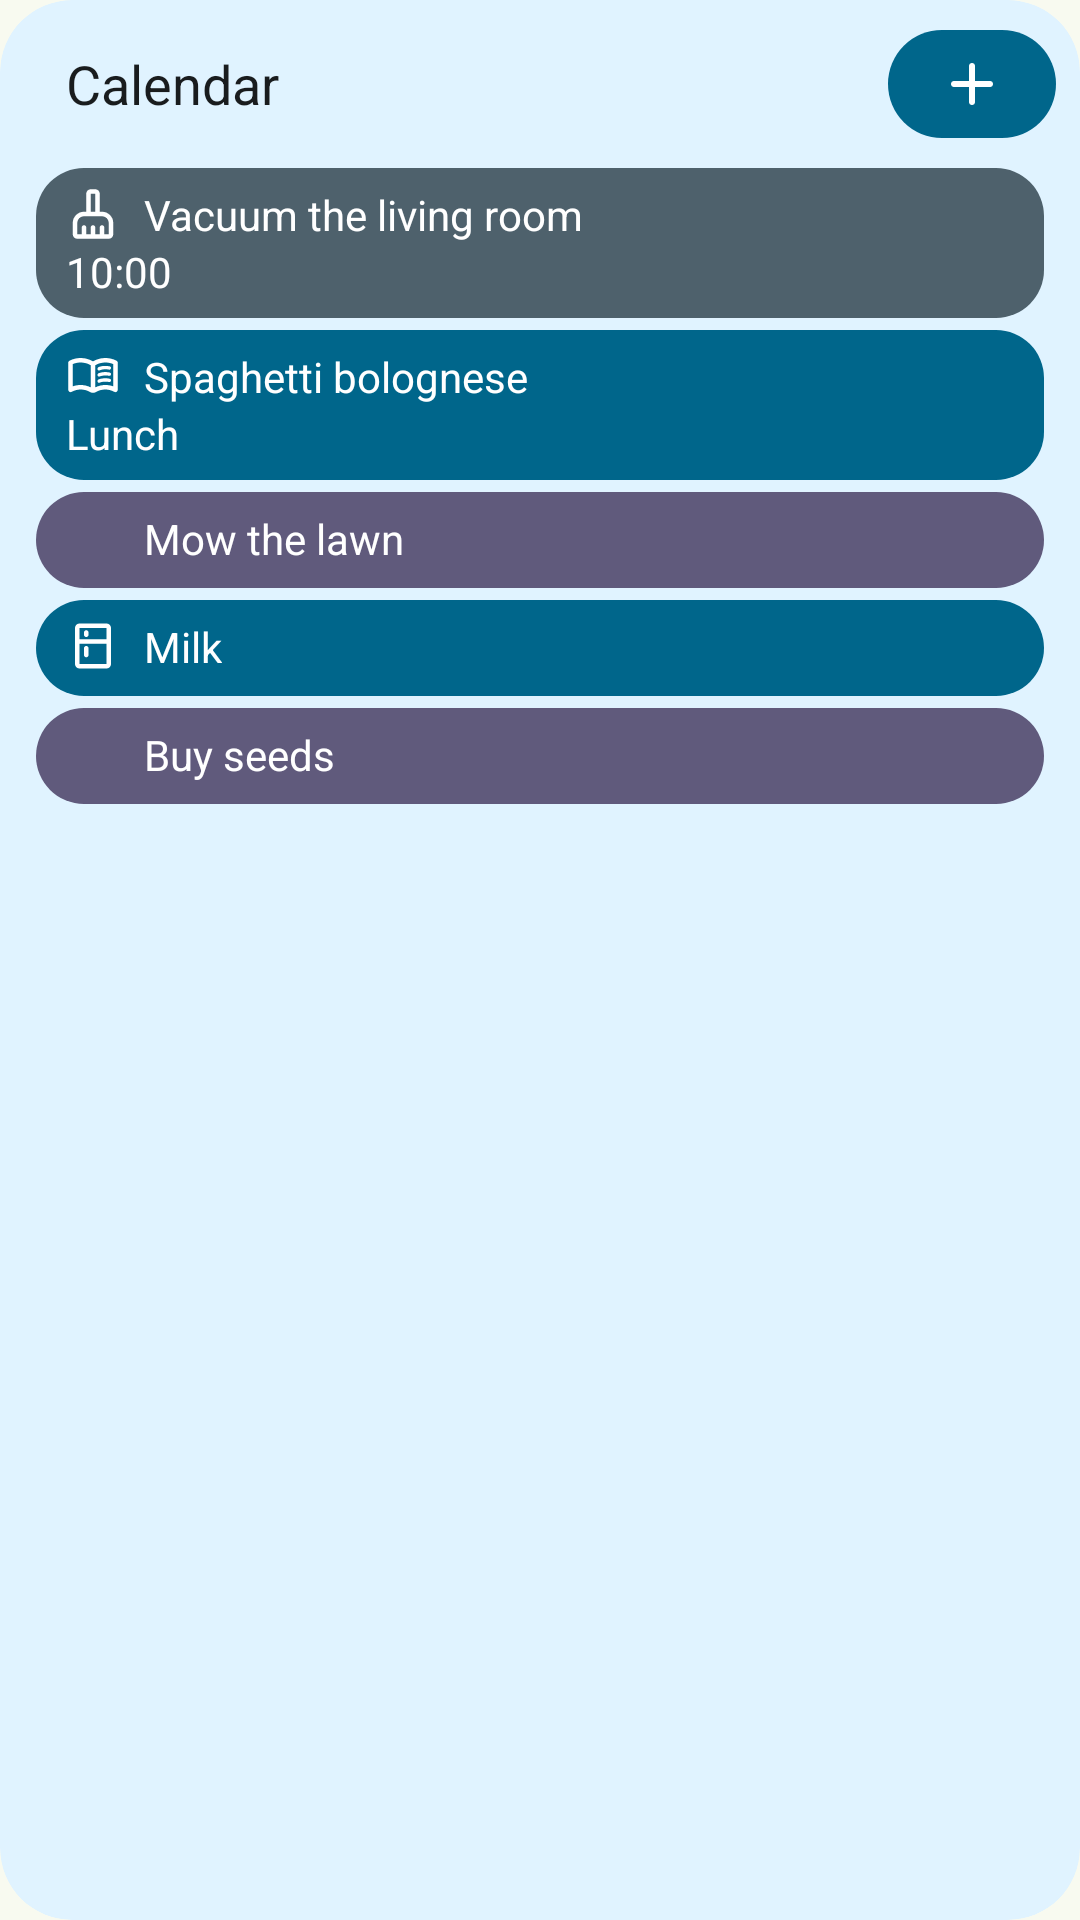

Named icons in this screenshot (1080 x 1920) and their bounding boxes, (x1, y1, x2, y2):
widget add: (951, 63, 993, 105)
widget cleaning services: (72, 189, 114, 239)
widget kitchen: (75, 623, 111, 669)
widget menu book: (68, 358, 118, 393)
